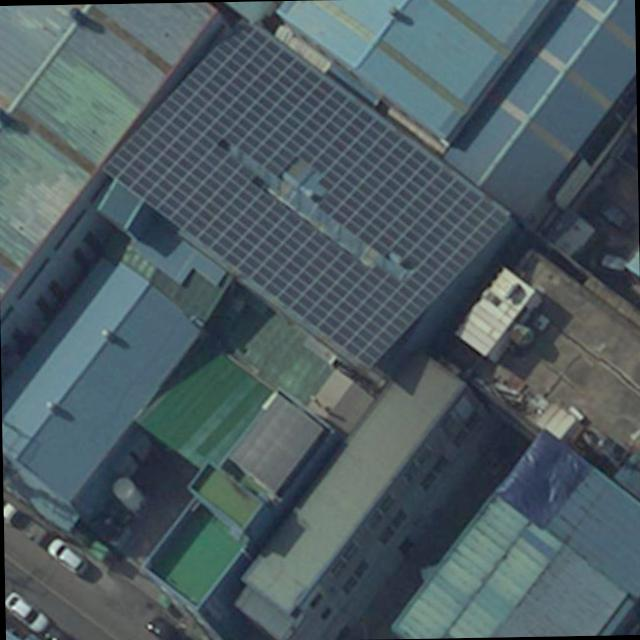solar: (95, 8, 519, 374)
